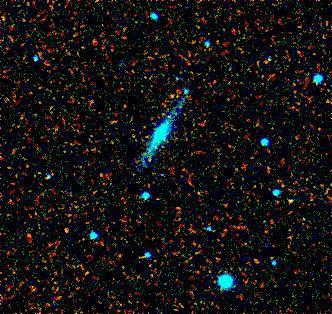star: (157, 80, 187, 110)
